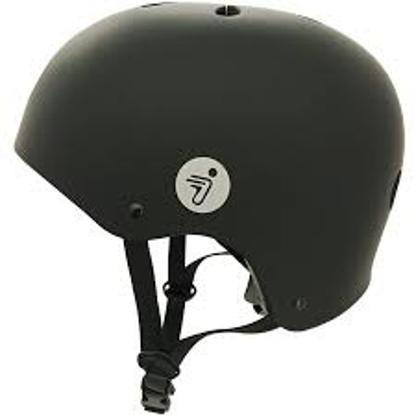not trash: (13, 0, 404, 416)
